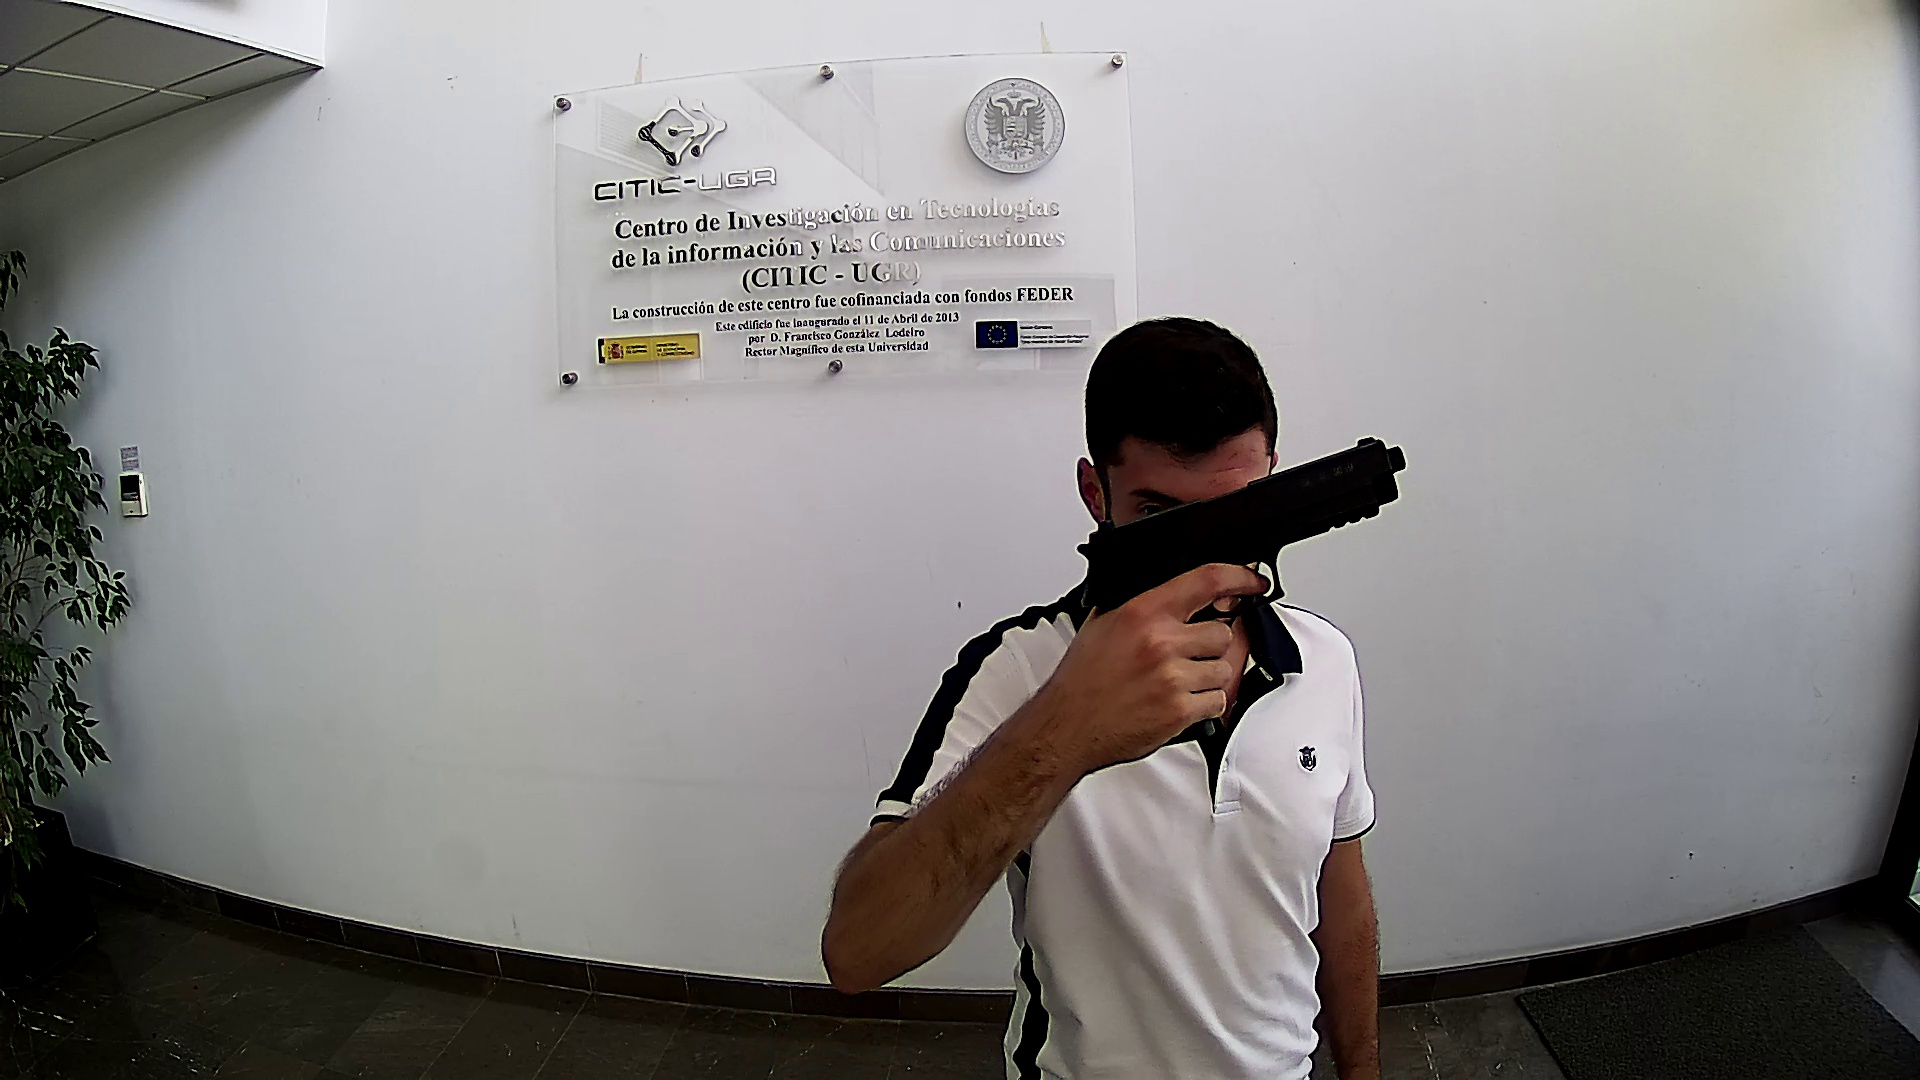pistol: (1073, 434, 1410, 750)
